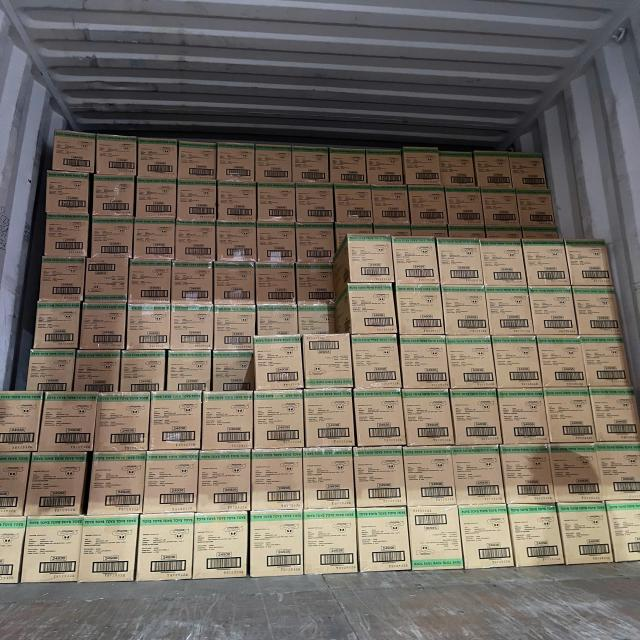Carton: (23, 448, 88, 520), (86, 450, 148, 520), (22, 514, 83, 582), (135, 513, 195, 581), (79, 514, 137, 584), (192, 511, 248, 581), (507, 502, 566, 568), (458, 503, 515, 571), (195, 448, 252, 515), (249, 509, 304, 578), (302, 507, 356, 577), (406, 505, 462, 572), (358, 506, 413, 573), (144, 449, 198, 517), (250, 447, 304, 514), (558, 502, 616, 564), (302, 445, 354, 513), (42, 390, 96, 454), (94, 391, 150, 452), (352, 445, 404, 509), (498, 444, 553, 503), (546, 442, 600, 502), (303, 386, 353, 449), (402, 445, 454, 505), (451, 443, 502, 504), (254, 390, 304, 452), (150, 390, 200, 452), (586, 385, 638, 444), (402, 388, 453, 447), (353, 388, 403, 448), (0, 390, 46, 454), (594, 439, 640, 502), (450, 387, 499, 446), (497, 387, 545, 447), (202, 392, 252, 449), (544, 386, 593, 444), (302, 332, 351, 387), (351, 335, 400, 388), (256, 339, 306, 390), (401, 338, 449, 388), (493, 340, 541, 390), (397, 289, 443, 340), (0, 449, 33, 519), (573, 292, 621, 340), (449, 339, 496, 388), (78, 301, 125, 350), (442, 288, 488, 338), (531, 288, 578, 336), (342, 239, 392, 284), (350, 289, 396, 337), (486, 289, 532, 337), (540, 340, 586, 388), (581, 341, 629, 387), (393, 240, 440, 286), (36, 303, 82, 350), (438, 242, 484, 288), (606, 499, 640, 561), (127, 308, 172, 354), (480, 243, 524, 290), (40, 261, 88, 304), (526, 244, 570, 290), (568, 245, 615, 288), (75, 352, 122, 393), (30, 352, 77, 393), (173, 264, 216, 308), (46, 217, 91, 259), (170, 308, 214, 350), (128, 264, 172, 306), (86, 260, 130, 302), (48, 173, 92, 215), (0, 516, 28, 582), (132, 219, 174, 262), (213, 264, 255, 307), (91, 180, 136, 220), (121, 351, 167, 389), (168, 352, 214, 390), (91, 220, 134, 260), (52, 137, 96, 176), (410, 188, 448, 233), (258, 222, 299, 263), (173, 223, 215, 263), (256, 266, 298, 306), (211, 350, 253, 390), (138, 142, 180, 182), (178, 184, 218, 225), (215, 223, 256, 263), (136, 182, 177, 222), (445, 188, 482, 232), (294, 224, 334, 264), (295, 265, 334, 306), (96, 140, 138, 178), (258, 185, 298, 224), (403, 146, 443, 185), (213, 311, 256, 347), (218, 185, 258, 223), (180, 143, 218, 182), (336, 188, 374, 226), (216, 145, 254, 183), (513, 154, 551, 192), (370, 188, 408, 226), (296, 187, 335, 224), (475, 152, 512, 190), (331, 151, 368, 188), (483, 192, 520, 229), (292, 148, 328, 186), (518, 192, 557, 227), (257, 150, 295, 185), (443, 152, 478, 189), (365, 152, 403, 186), (258, 308, 300, 337), (298, 305, 338, 335), (200, 430, 252, 450)
